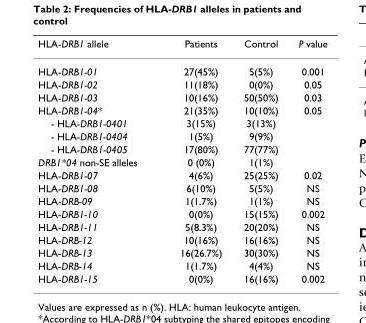table: (37, 37, 326, 284)
table column: (37, 37, 157, 284), (157, 37, 232, 284), (232, 37, 287, 284), (287, 37, 326, 284)
table column header: (37, 37, 326, 57)
table row: (37, 37, 326, 57), (37, 57, 326, 77), (37, 77, 326, 90), (37, 90, 326, 103), (37, 103, 326, 116), (37, 116, 326, 129), (37, 129, 326, 142), (37, 142, 326, 155), (37, 155, 326, 168), (37, 168, 326, 181), (37, 181, 326, 194), (37, 194, 326, 207), (37, 207, 326, 220), (37, 232, 326, 245), (37, 245, 326, 258), (37, 258, 326, 271), (37, 271, 326, 284), (37, 220, 326, 232)
